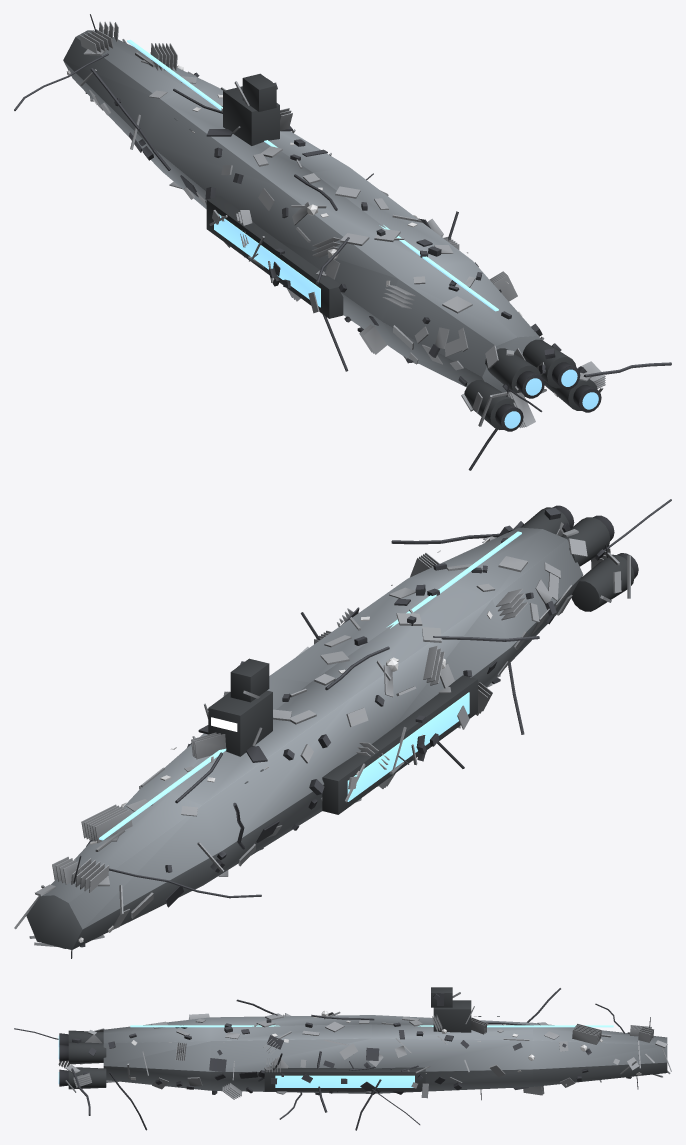
Rendered from capital_carrier.glb.
The picture shows the model from 3 angles, top to bottom: view 1: azimuth 30°, elevation 25°; view 2: azimuth 150°, elevation 25°; view 3: azimuth 270°, elevation 25°; orthographic projection. The views are drawn at different scales.
Visible parts, largest first — view 1: CarrierHull; view 2: CarrierHull; view 3: CarrierHull.
Part boxes in pixels (x1,y1,x2,y2): CarrierHull: (14, 14, 671, 470); CarrierHull: (14, 499, 671, 958); CarrierHull: (14, 987, 671, 1130).
Bounding box in the file's own units: 76.59 × 59.45 × 245.
